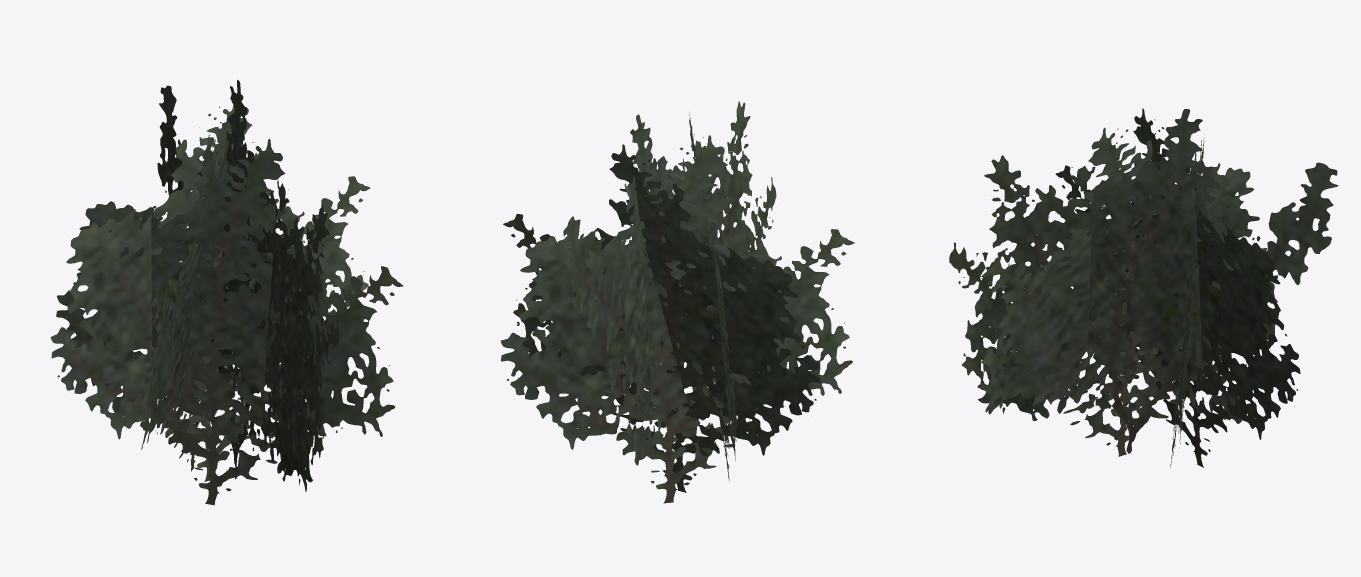
File: Bush.fbx
3 views of the same model, side by side, from view 1: azimuth 30°, elevation 25°; view 2: azimuth 150°, elevation 25°; view 3: azimuth 270°, elevation 25° (orthographic). The views are drawn at different scales.
Parts seen in each view (by area): view 1: Bush_1; view 2: Bush_1; view 3: Bush_1.
Boxes of the visible parts, bbox=[...] form: Bush_1: bbox=[50, 80, 403, 505]; Bush_1: bbox=[500, 101, 854, 503]; Bush_1: bbox=[949, 108, 1338, 467].
Size of the model in its own units: 393 by 388 by 394.
